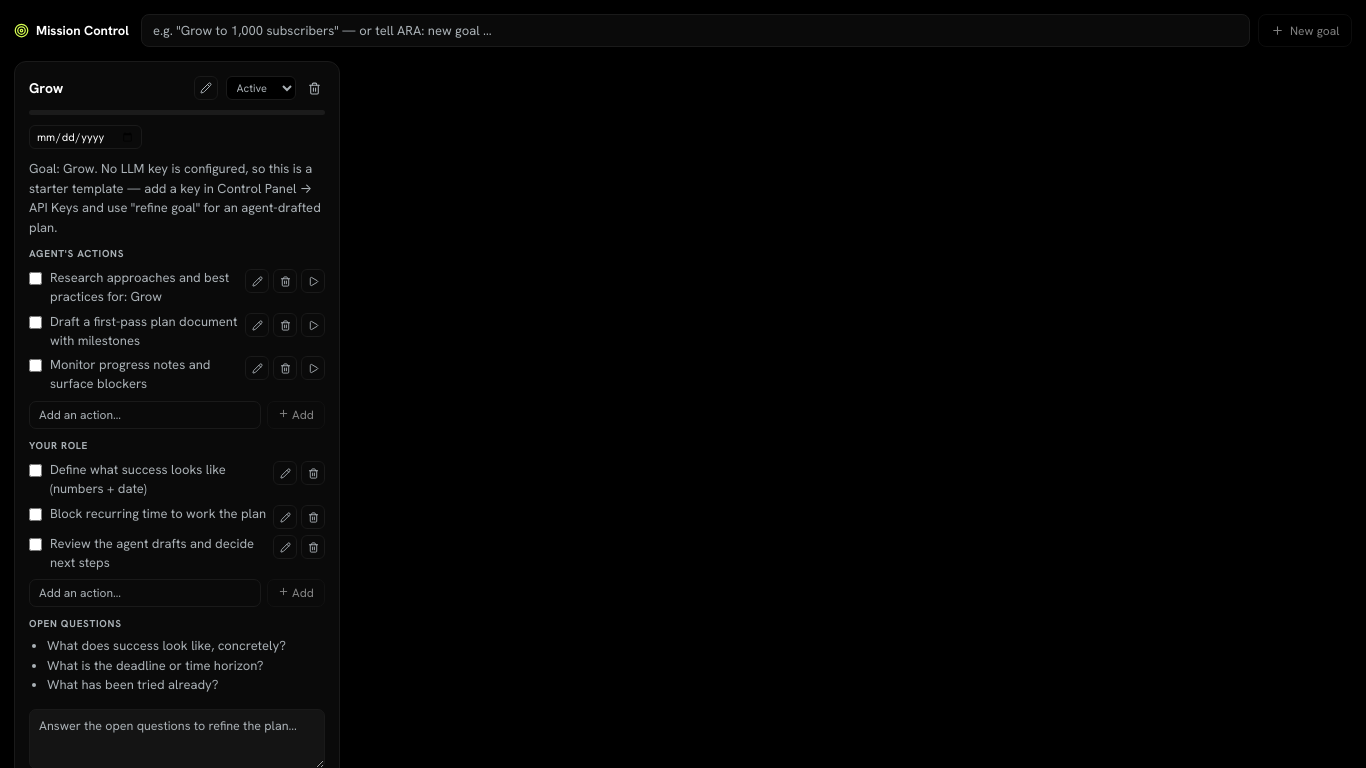
Test: target date + due badge › -2 days (overdue) and clear removes the badge
In the date field named "Target date for Grow": {"x": 86, "y": 137} [29, 125, 142, 149], type "2026-01-13"
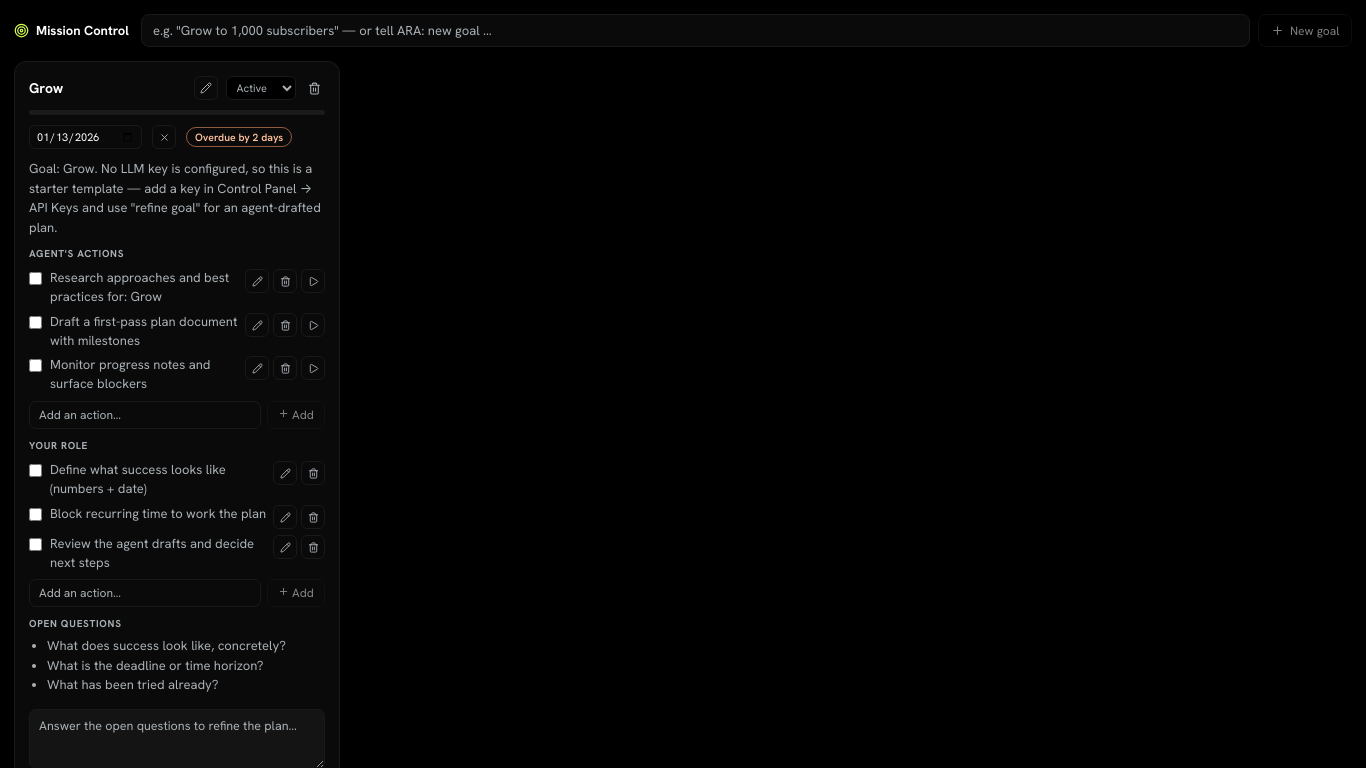
Now the text "Overdue by 2 days" is shown, box [186, 127, 292, 147]
Click the button named "Clear target date for Grow": {"x": 164, "y": 137} [152, 125, 176, 149]
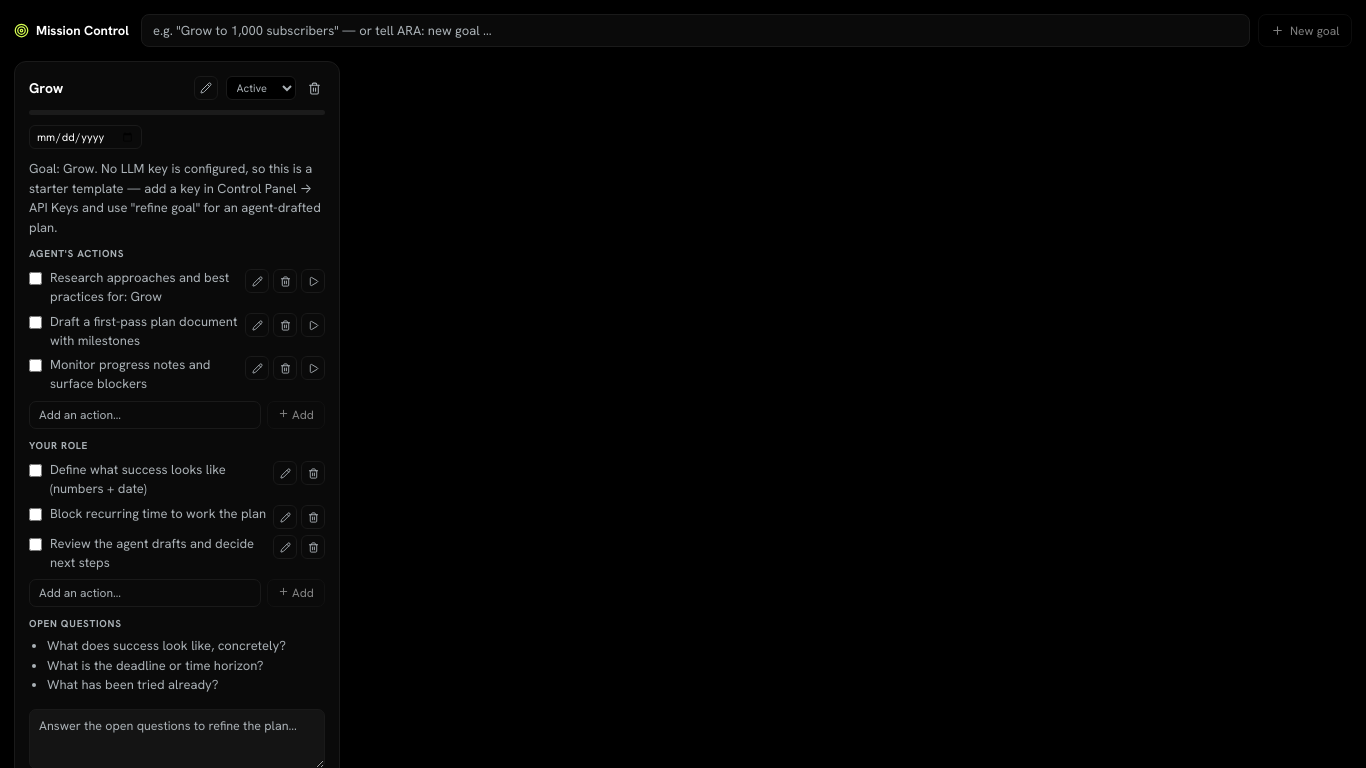
Now the text "Overdue by" is gone
